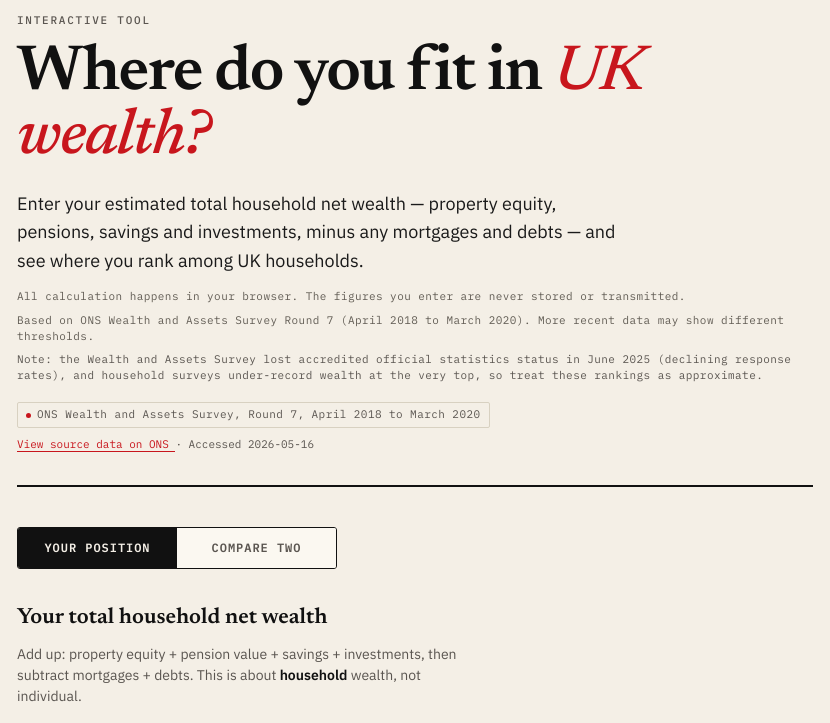
WealthCalculator — compare mode inputs › both inputs have associated labels
Click the tab with id "tab-compare" at (256, 548), box [177,528,336,568]
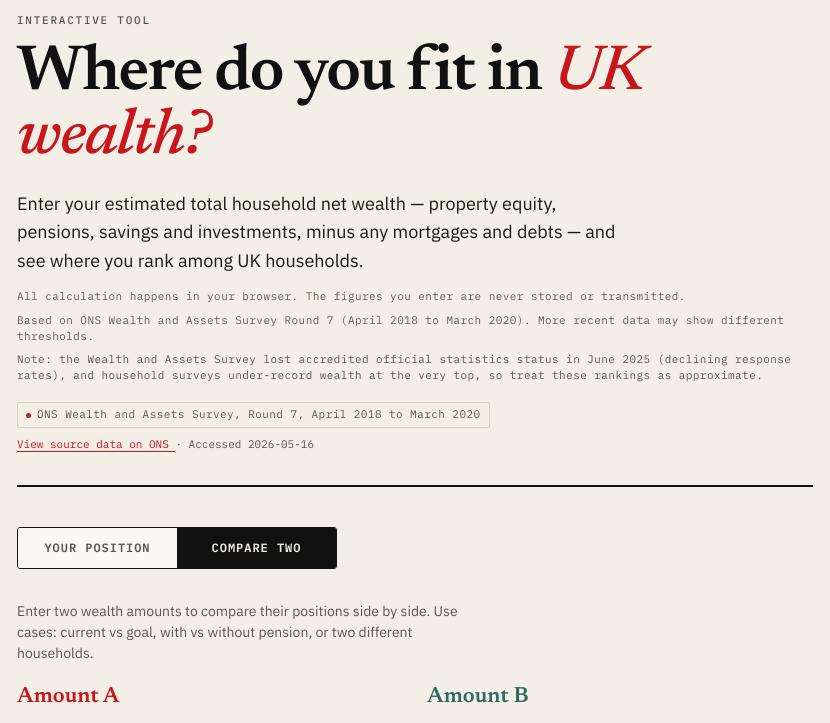
Expected: the label "Amount A" is shown, [17,686,120,708]
Expected: the label "Amount B" is shown, [427,686,529,708]
